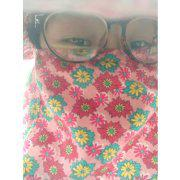OK: (34, 11, 166, 143)
